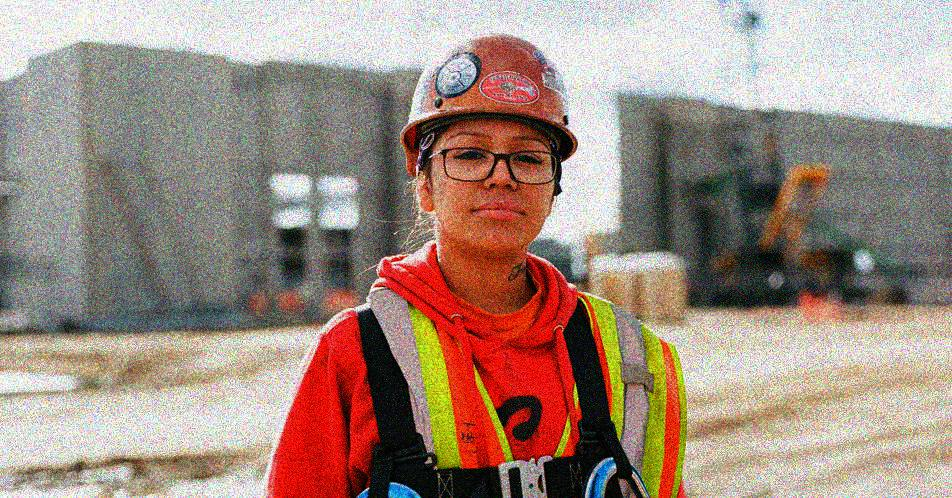helmet: (394, 32, 578, 258)
